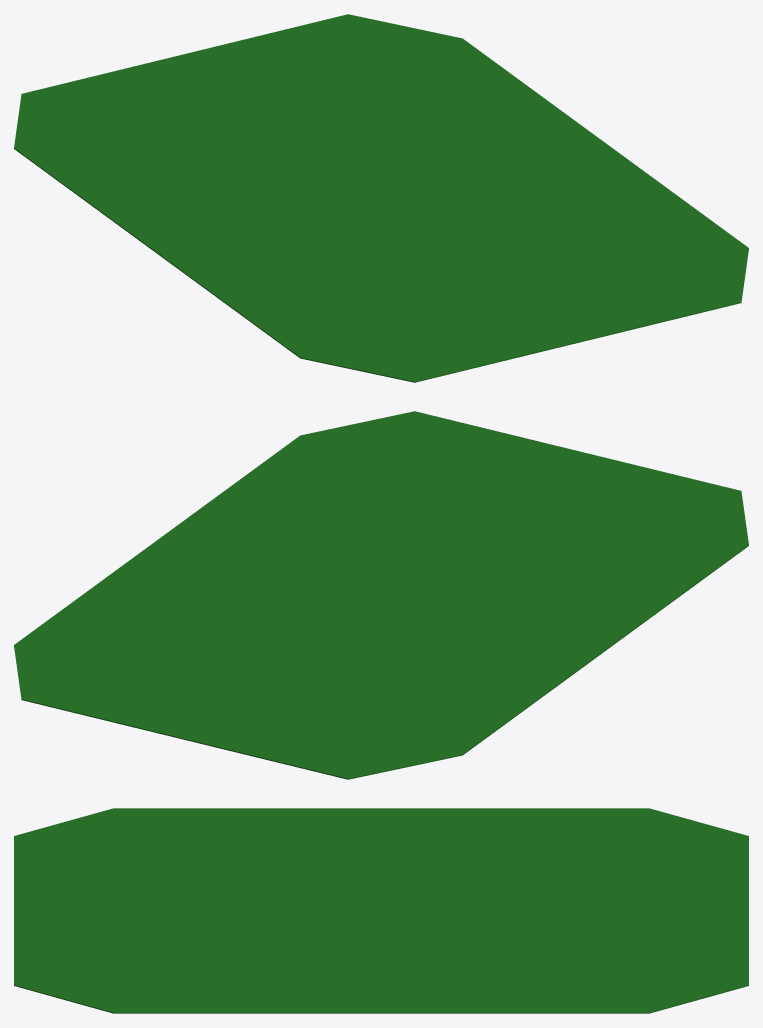
Rendered from Grassv2.fbx.
3 views of the same model, one above another, from view 1: azimuth 30°, elevation 25°; view 2: azimuth 150°, elevation 25°; view 3: azimuth 270°, elevation 25° (orthographic). The views are drawn at different scales.
Visible parts, largest first — view 1: grass; view 2: grass; view 3: grass.
Part boxes in pixels (<box>): grass: <box>14,14,748,382</box>; grass: <box>14,411,748,779</box>; grass: <box>14,808,748,1013</box>.
Size of the model in its own units: 773 by 2.29 by 1174.
